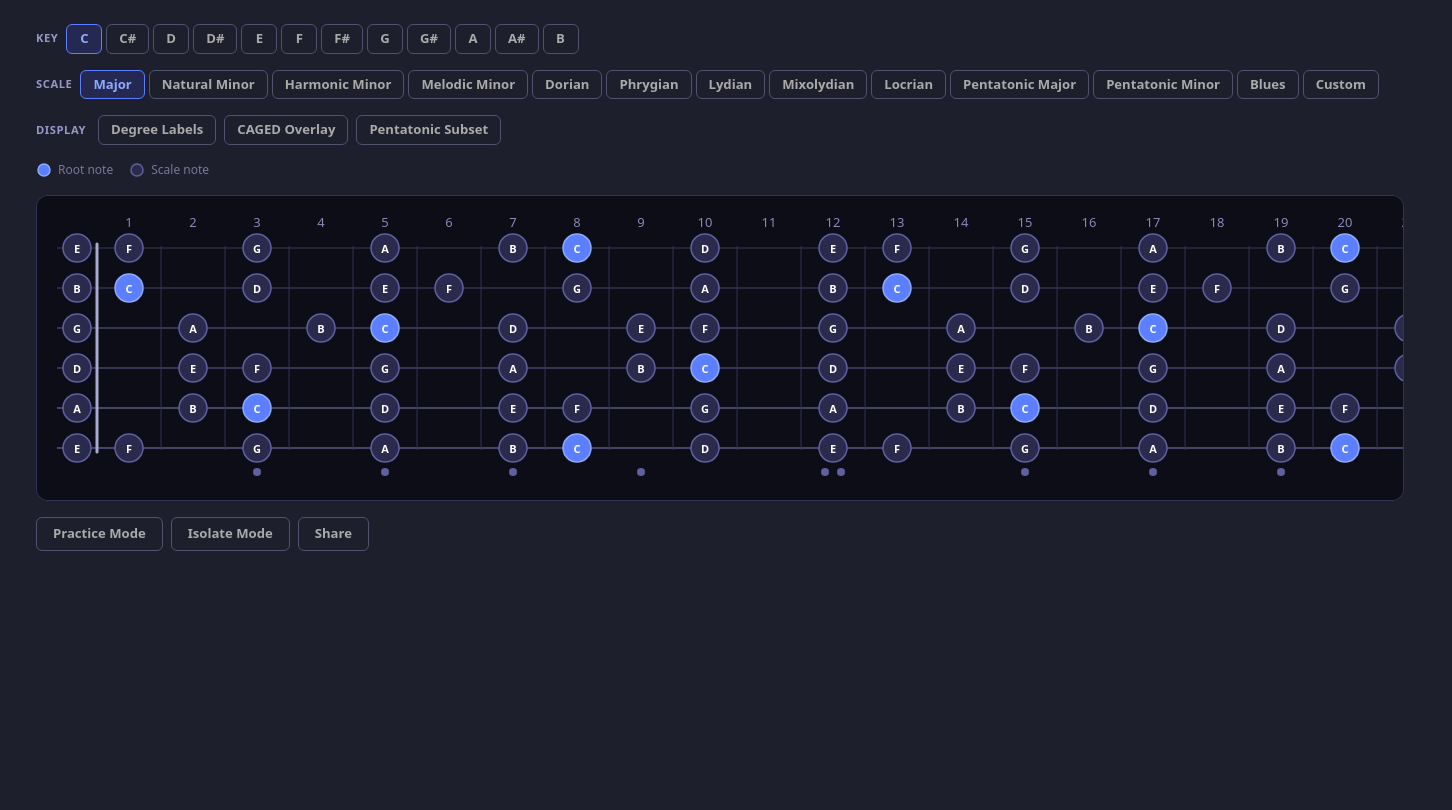
Test case: ScalesPage – Isolate Mode toggle › turning on Isolate Mode turns off an active Practice Mode
Step 1. Click the button "Practice Mode" → [99, 534], box top-left (36, 517), bottom-right (163, 551)
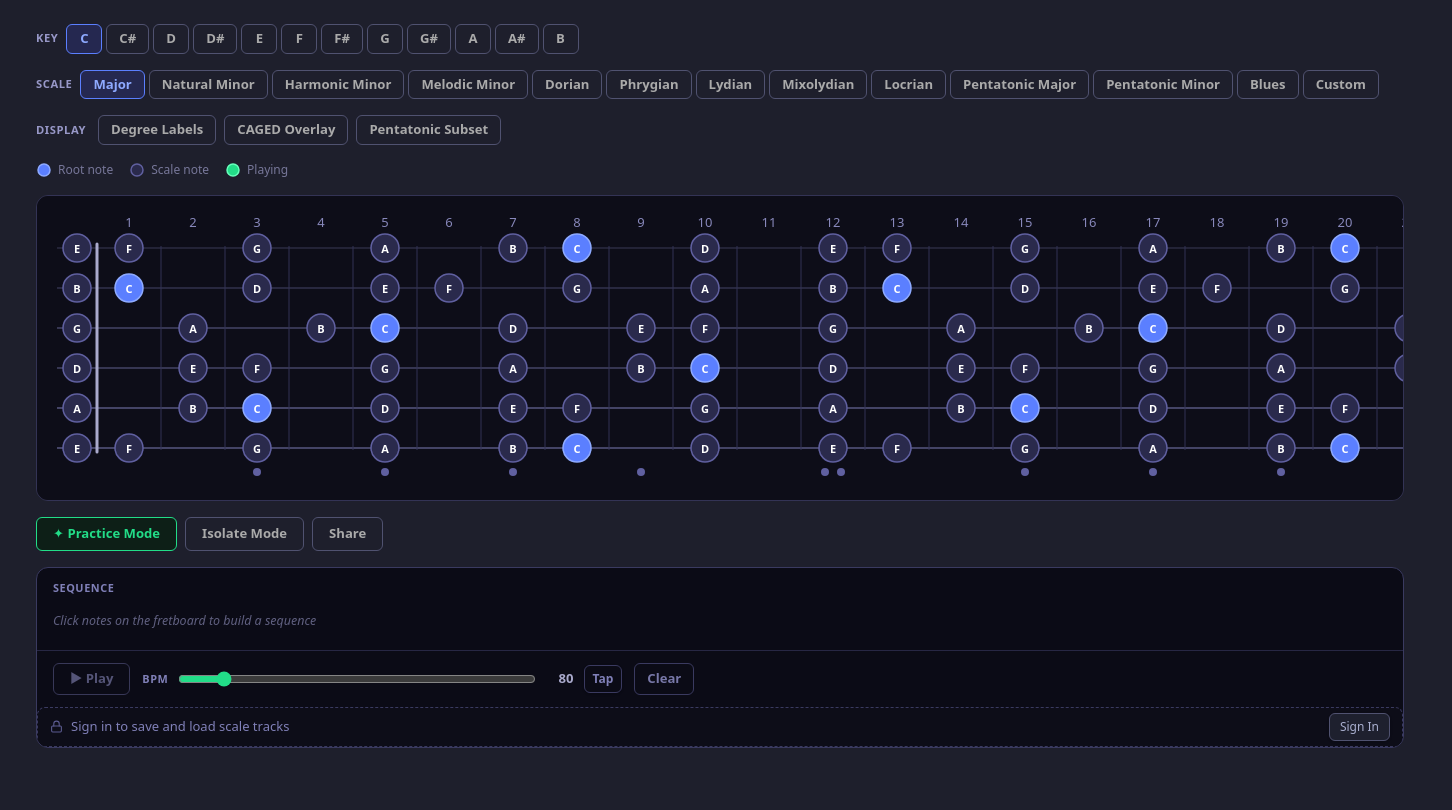
Now the button "✦ Practice Mode" is shown, box top-left (36, 517), bottom-right (177, 551)
Now the text "Click notes on the fretboard to build a sequence" is shown, box top-left (53, 612), bottom-right (316, 630)
Step 2. Click the button "Isolate Mode" → [245, 534], box top-left (185, 517), bottom-right (304, 551)
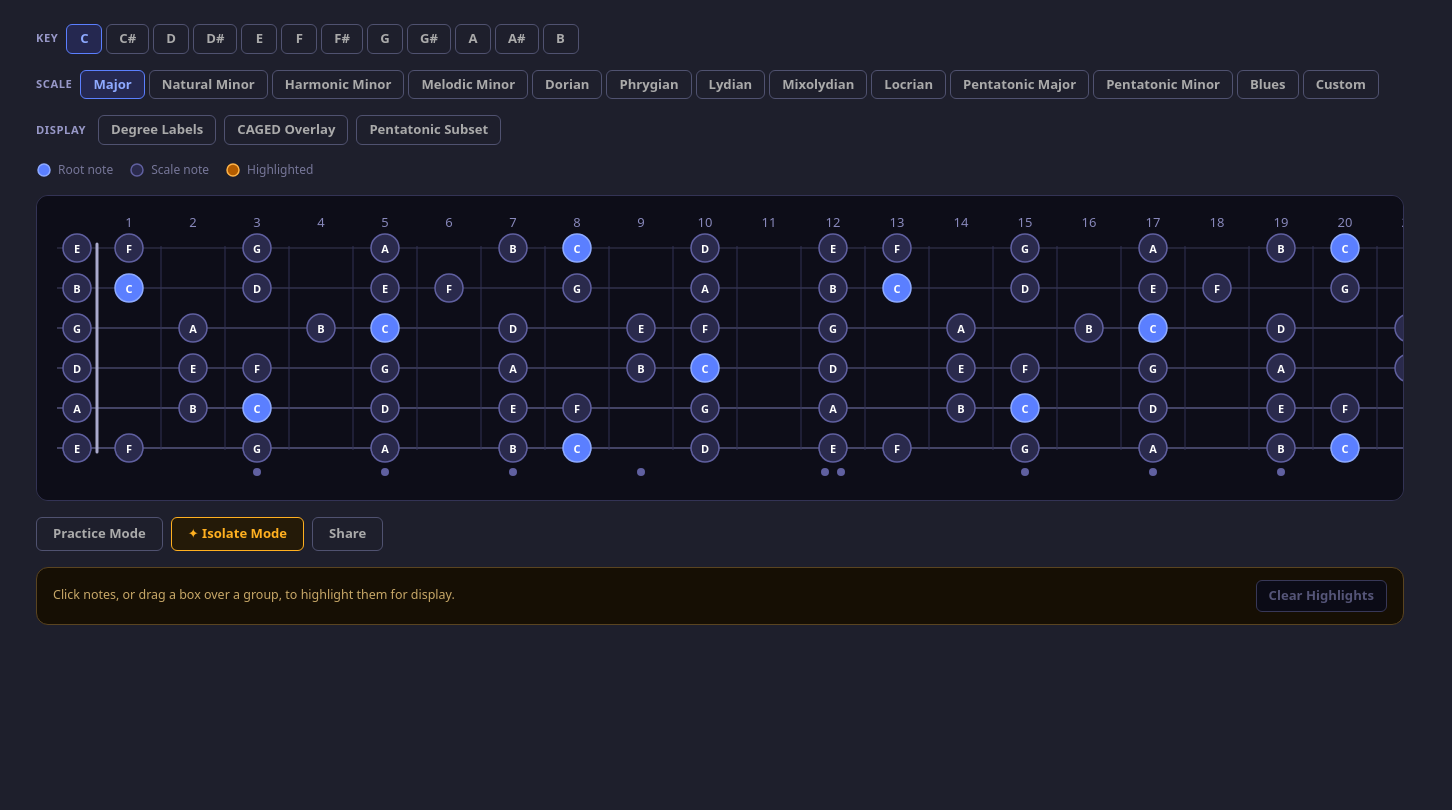
Expected: the button "Practice Mode" is shown, top-left (36, 517), bottom-right (163, 551)
Now the button "✦ Isolate Mode" is shown, box top-left (171, 517), bottom-right (304, 551)
Now the text "Click notes on the fretboard to build a sequence" is gone
